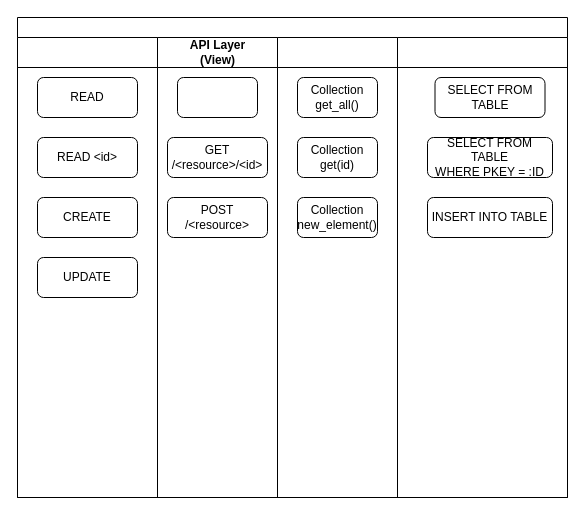
Image size: 585x515. Some labels were removed from this diagram. Here are the shapes that lost their labels. From the top down, the box of each, then its label:
(176, 76, 258, 118): GET /<resource>
(16, 36, 158, 498): CRUD Operation
(276, 36, 398, 498): Object Layer (Model)
(396, 36, 568, 498): DB Layer
